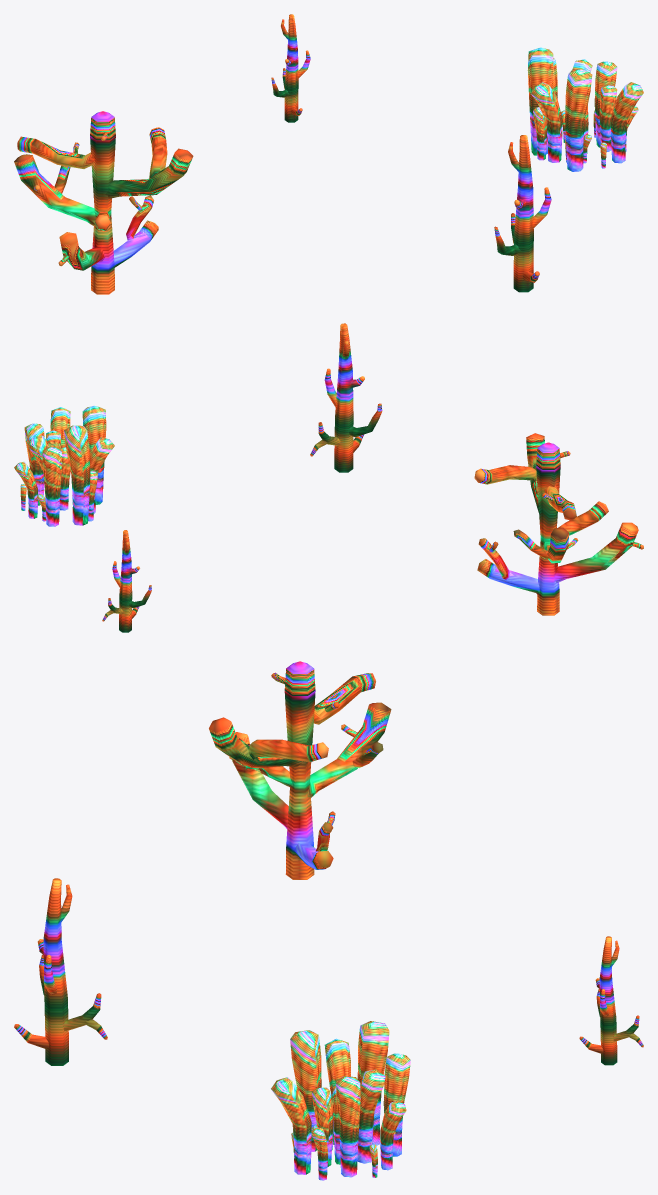
File: Plants.glb
The picture shows the model from 3 angles, top to bottom: view 1: azimuth 30°, elevation 25°; view 2: azimuth 150°, elevation 25°; view 3: azimuth 270°, elevation 25°; orthographic projection. The views are drawn at different scales.
Visible parts, largest first — view 1: Cylinder.017_MainPlant_0; view 2: Cylinder.017_MainPlant_0; view 3: Cylinder.017_MainPlant_0.
Part boxes in pixels (x1,y1,x2,y2): Cylinder.017_MainPlant_0: [14, 14, 643, 294]; Cylinder.017_MainPlant_0: [14, 323, 643, 632]; Cylinder.017_MainPlant_0: [14, 661, 643, 1180].
Bounding box in the file's own units: 10.75 × 3.03 × 8.
1 material, 1 textured.
